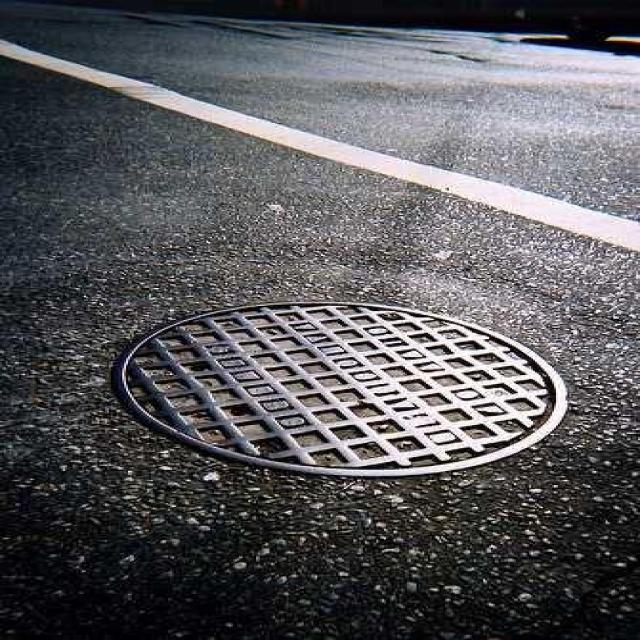manhole: (109, 301, 569, 481)
